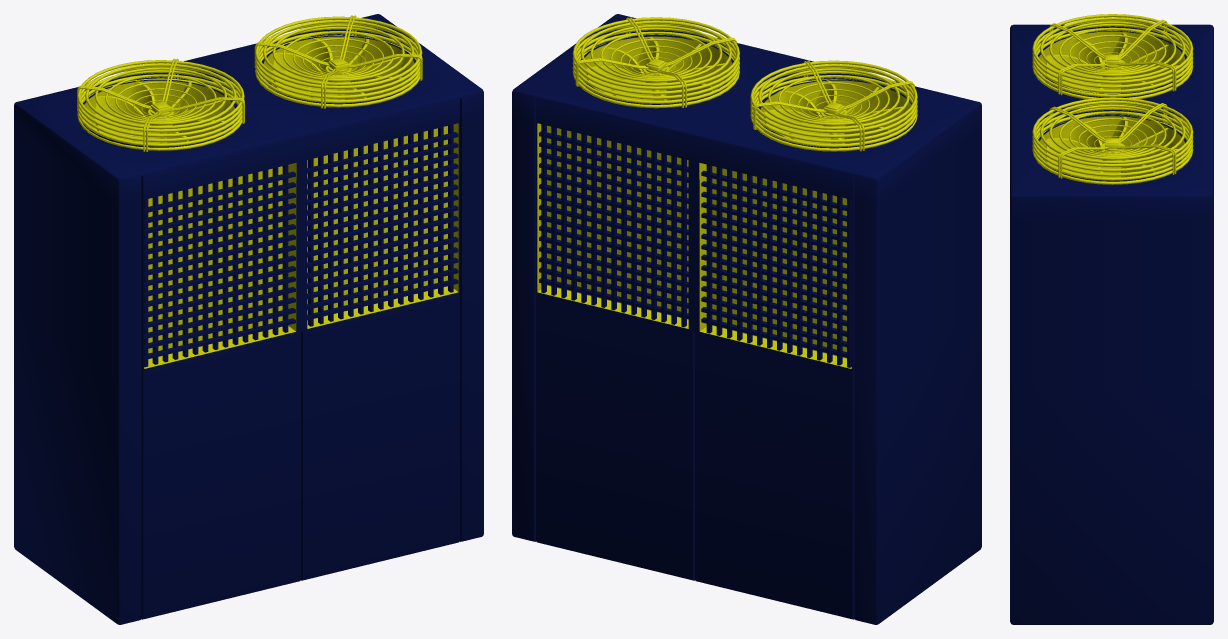
File: 4F_KHO.fbx
3 renders of one model, left to right at view 1: azimuth 30°, elevation 25°; view 2: azimuth 150°, elevation 25°; view 3: azimuth 270°, elevation 25°, orthographic. The views are drawn at different scales.
Parts seen in each view (by area): view 1: 4F_KHO_4-003; view 2: 4F_KHO_4-003; view 3: 4F_KHO_4-003.
Boxes of the visible parts, x1,y1,x2,y2 form: 4F_KHO_4-003: [14, 14, 483, 624]; 4F_KHO_4-003: [512, 14, 981, 624]; 4F_KHO_4-003: [1010, 14, 1213, 624].
Size of the model in its own units: 47.24 by 58.08 by 23.62.
